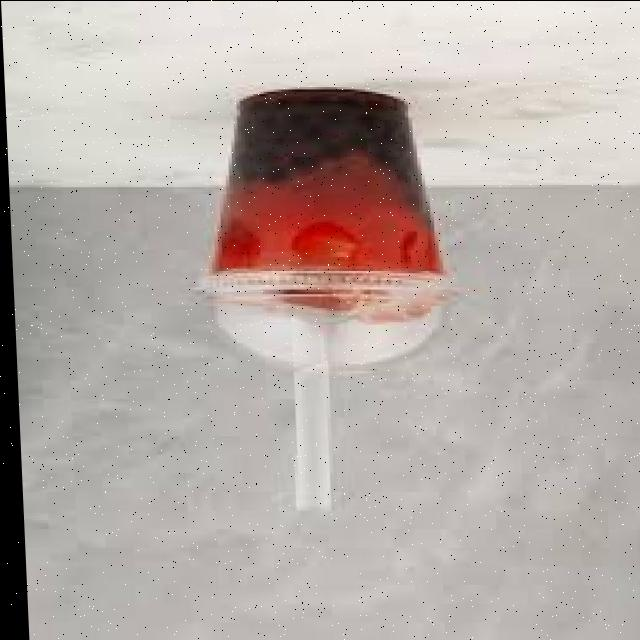cup: (209, 91, 442, 297)
